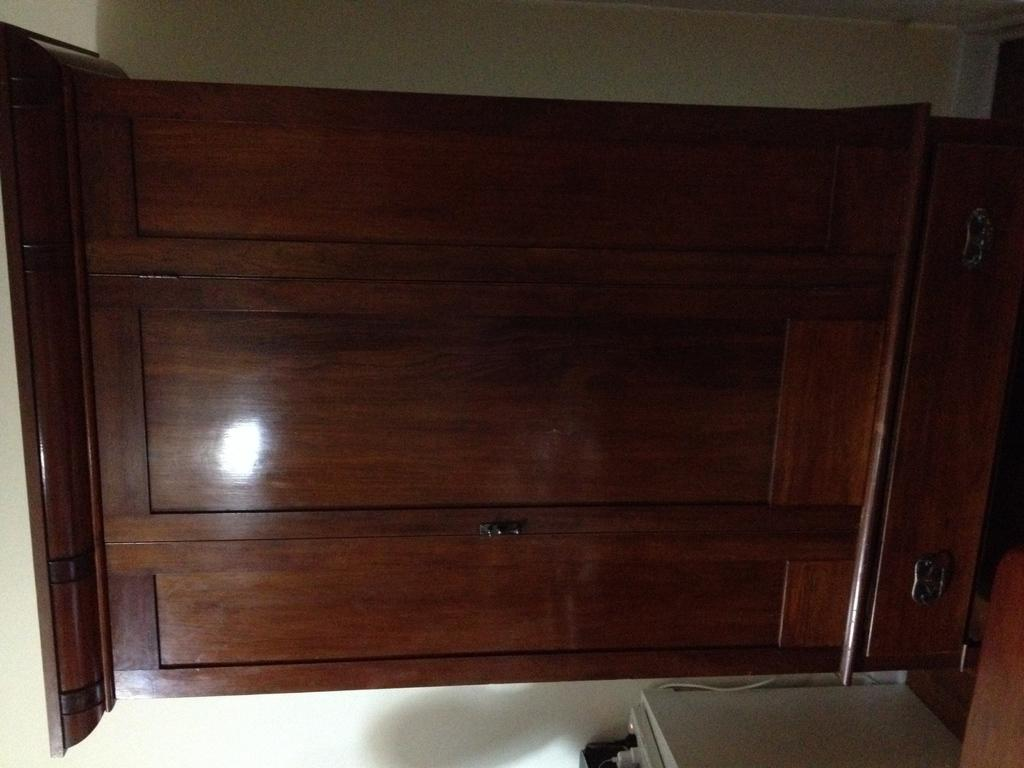cabinet_door: (97, 285, 871, 510), (111, 107, 872, 248), (127, 556, 849, 678)
